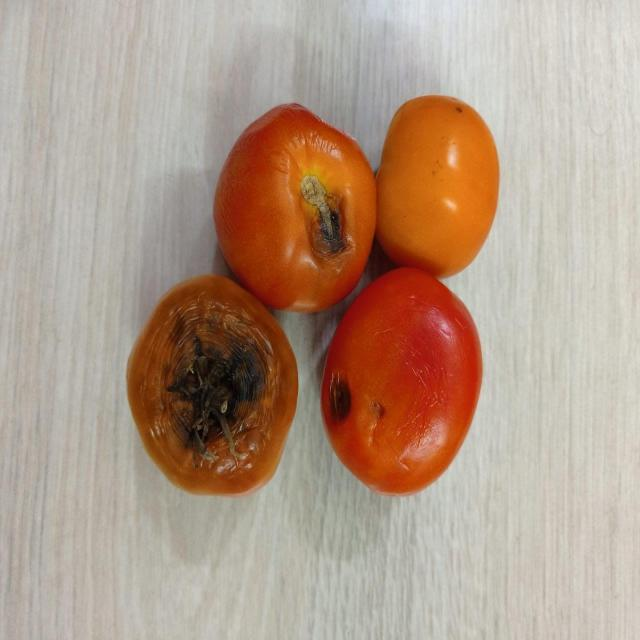Rotten: (127, 270, 300, 501), (322, 266, 484, 494), (212, 99, 380, 312)
